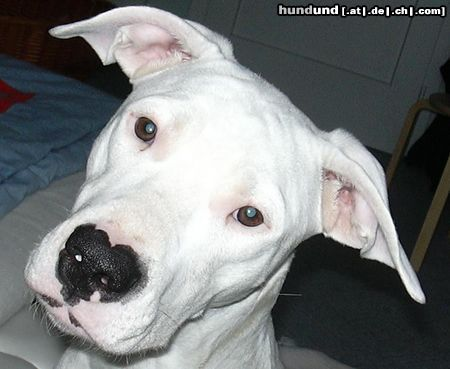dogo_argentino: (22, 4, 425, 369)
